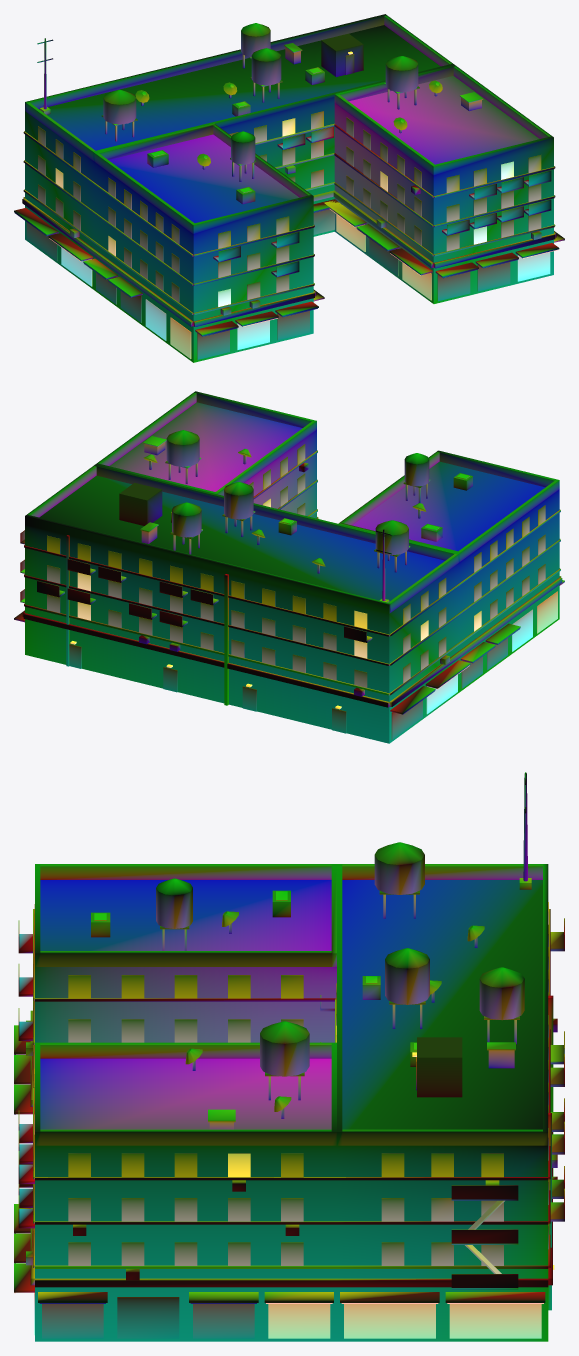
File: Block_Court_V6.fbx
The picture shows the model from 3 angles, top to bottom: view 1: azimuth 30°, elevation 25°; view 2: azimuth 150°, elevation 25°; view 3: azimuth 270°, elevation 25°; orthographic projection. The views are drawn at different scales.
Parts seen in each view (by area): view 1: Block_Court_V6_LOD0; view 2: Block_Court_V6_LOD0; view 3: Block_Court_V6_LOD0.
Boxes of the visible parts, x1,y1,x2,y2 form: Block_Court_V6_LOD0: (14, 14, 564, 362); Block_Court_V6_LOD0: (14, 391, 564, 743); Block_Court_V6_LOD0: (14, 772, 564, 1341).
Size of what is drawn, in the model's own units: 45.1 by 22.63 by 36.5.
